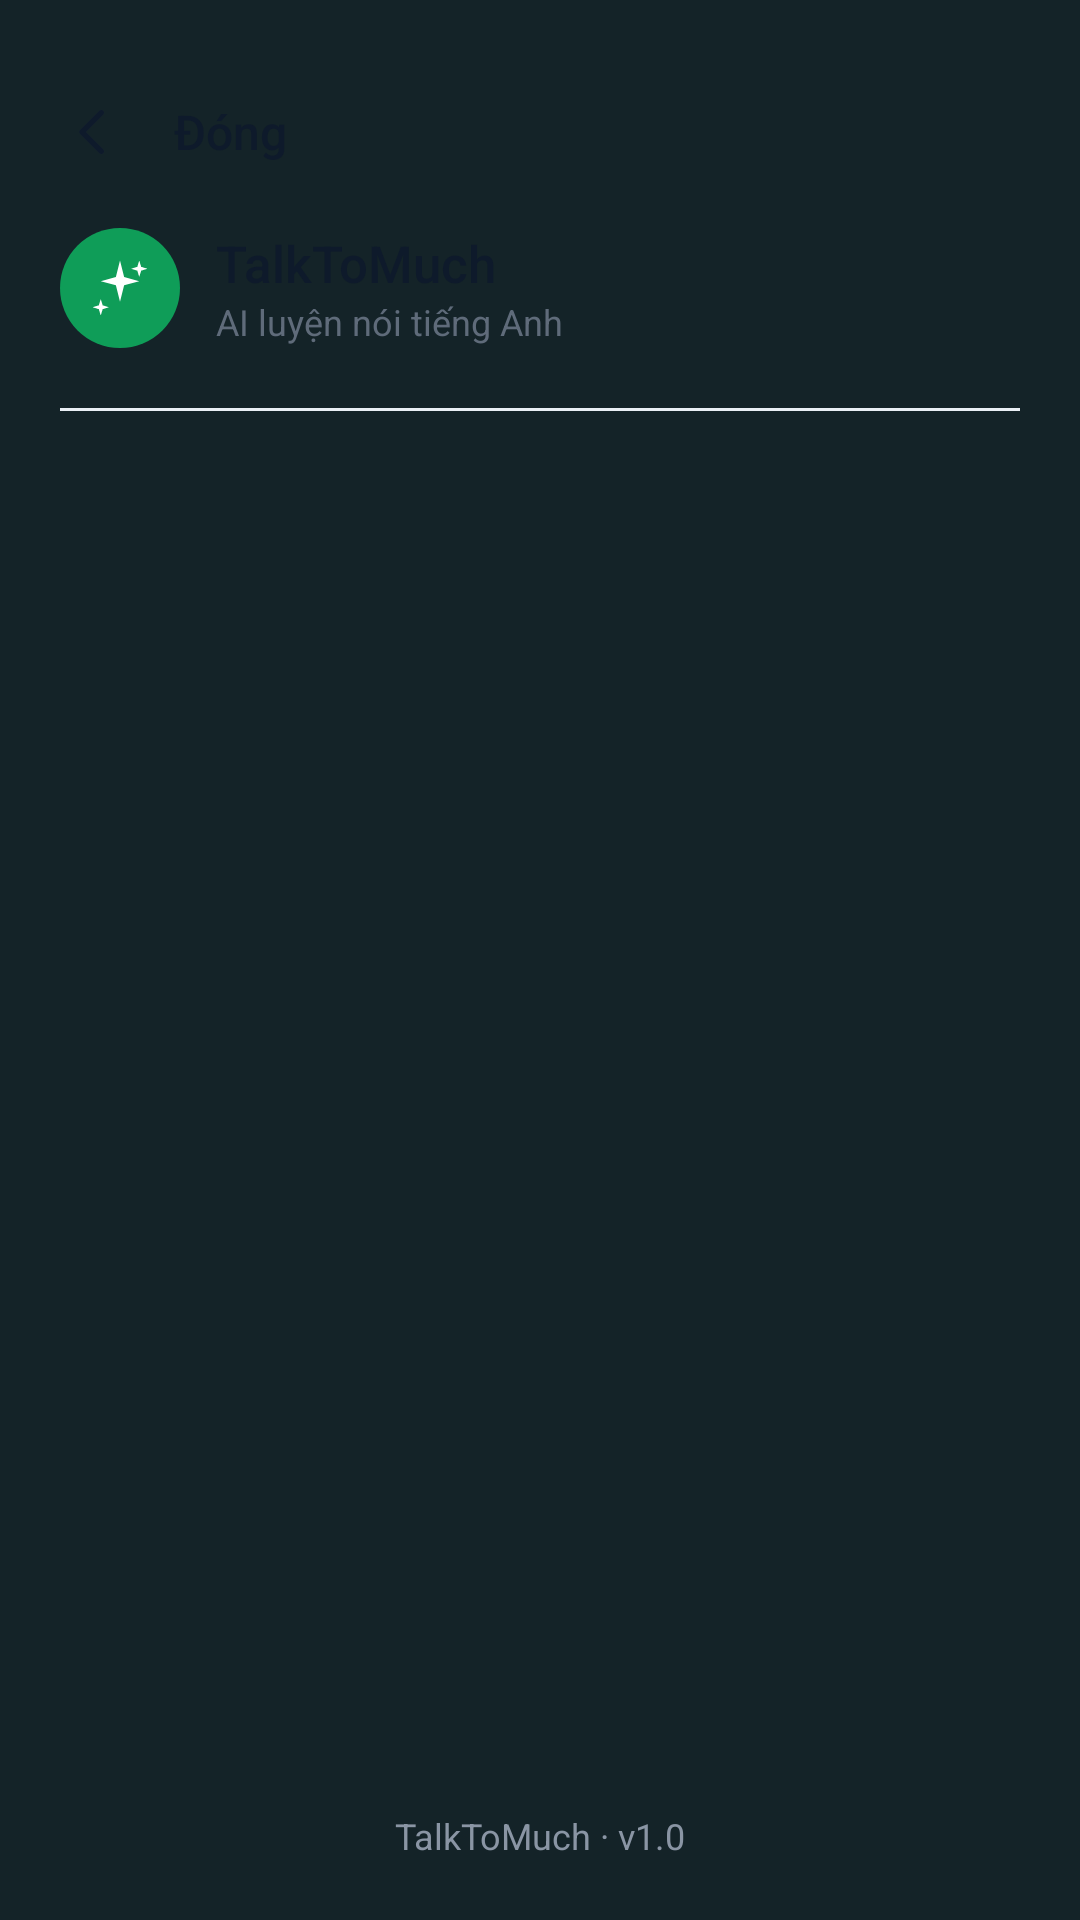

Where icons sit on this 1080*1920 app screen, as BBox(x1, y1, x2, y2):
ai sparkle: BBox(93, 261, 147, 315)
